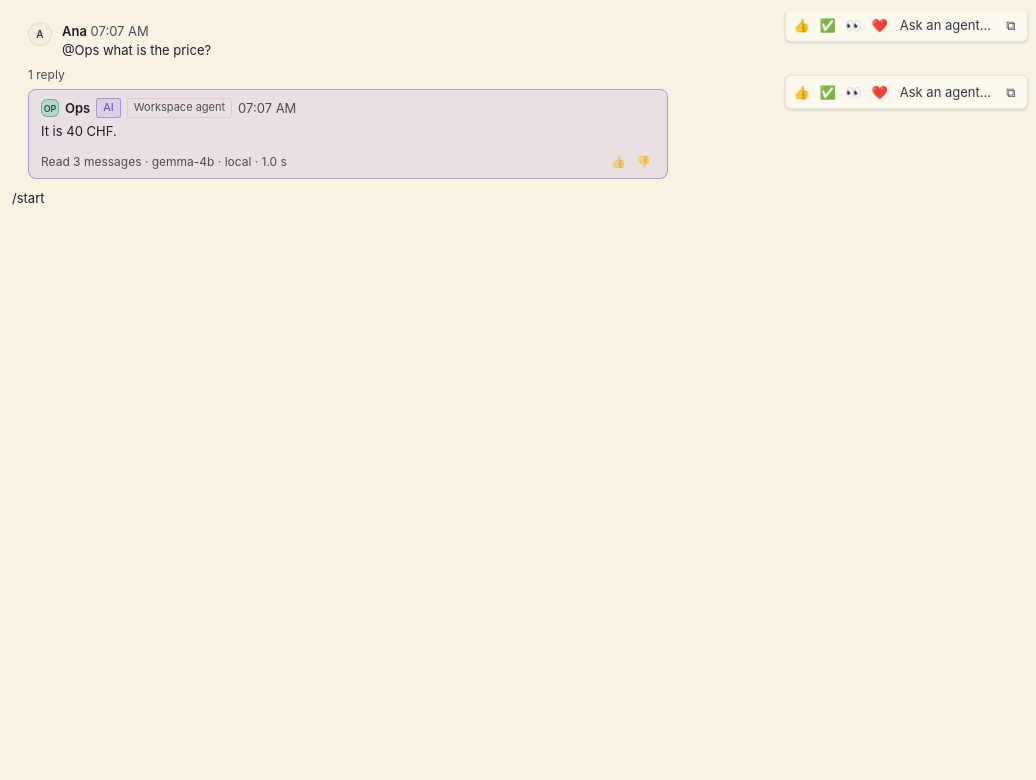
👎 opens the correction prompt; sending posts chat and message ids and thanks the user by agent name
Expected: the field with placeholder "What should it have said?" is not shown
Click the button named "Not helpful" at point(644, 162), box [632, 153, 655, 170]
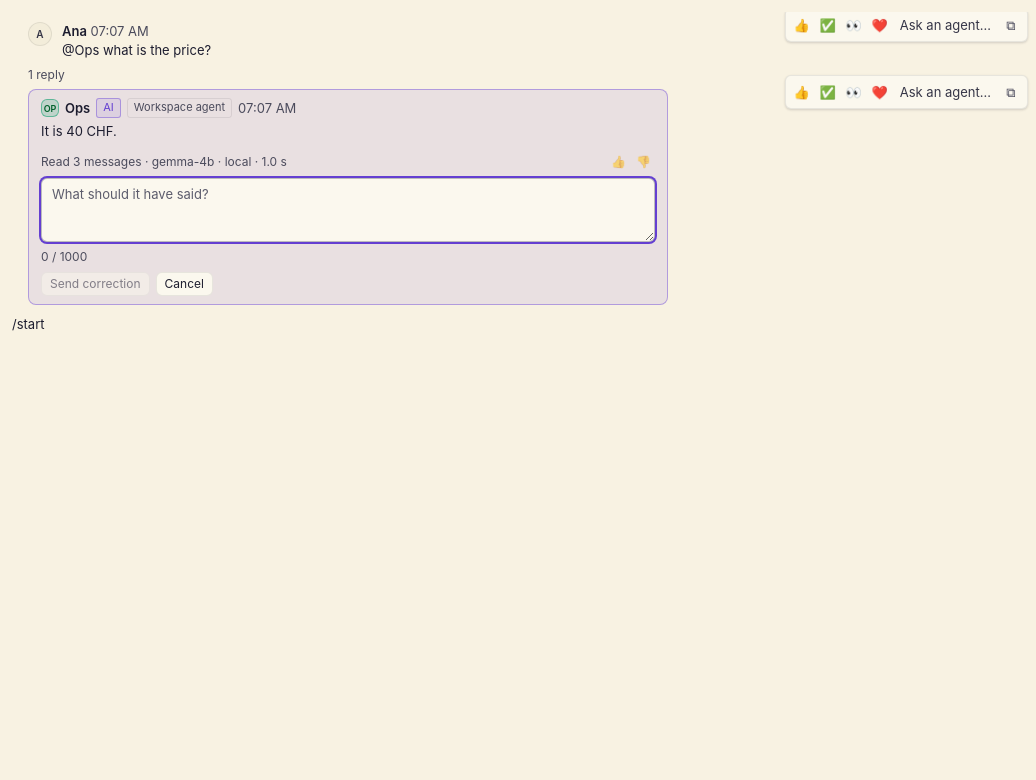
Type "It is 45 CHF since March." into the text box with placeholder "What should it have said?" at point(348, 210), box [41, 178, 655, 242]
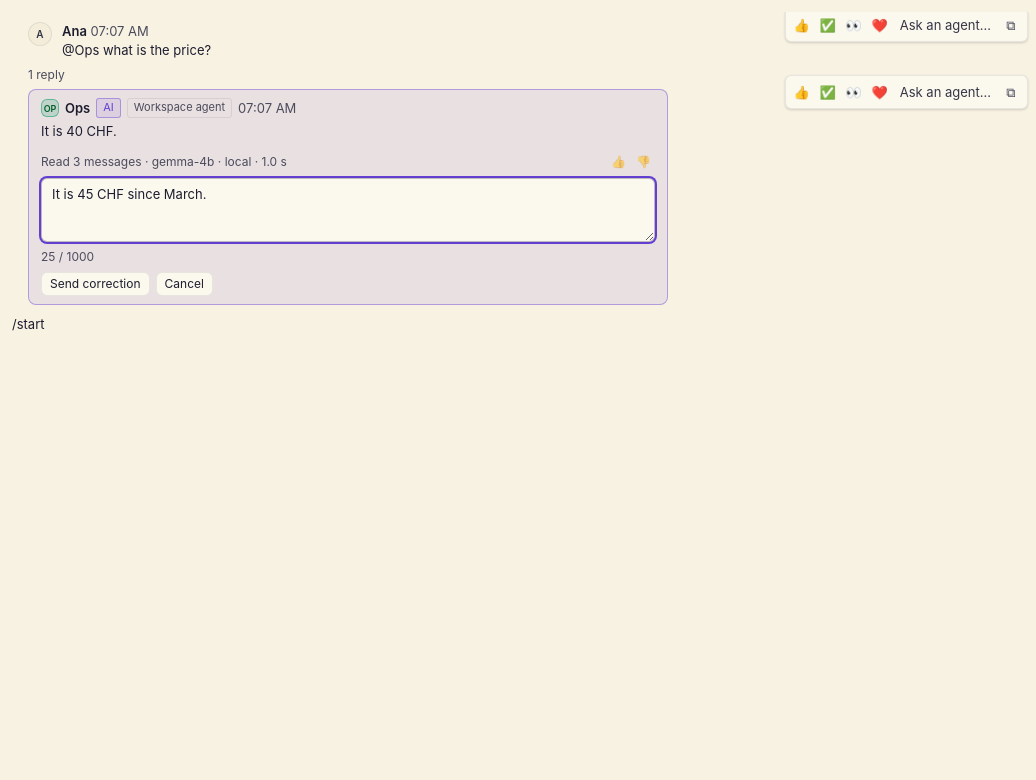
Click the button "Send correction" at point(95, 284), box [41, 272, 150, 296]
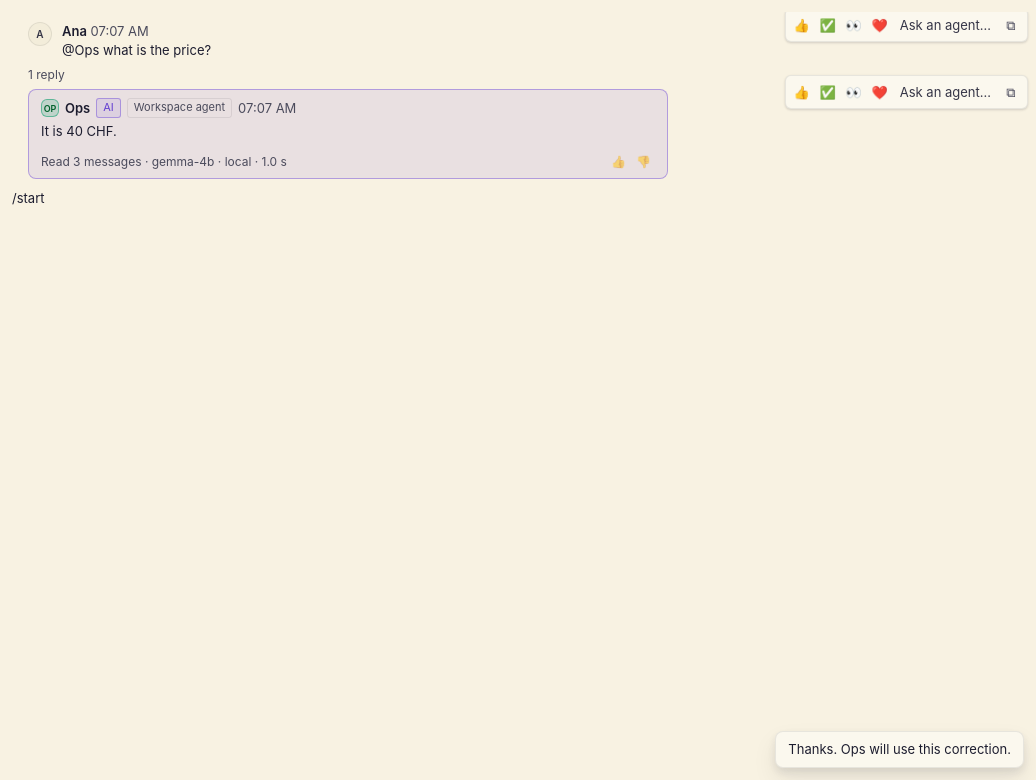
Expected: the text "Thanks. Ops will use this correction." is shown, [788, 741, 1011, 757]
